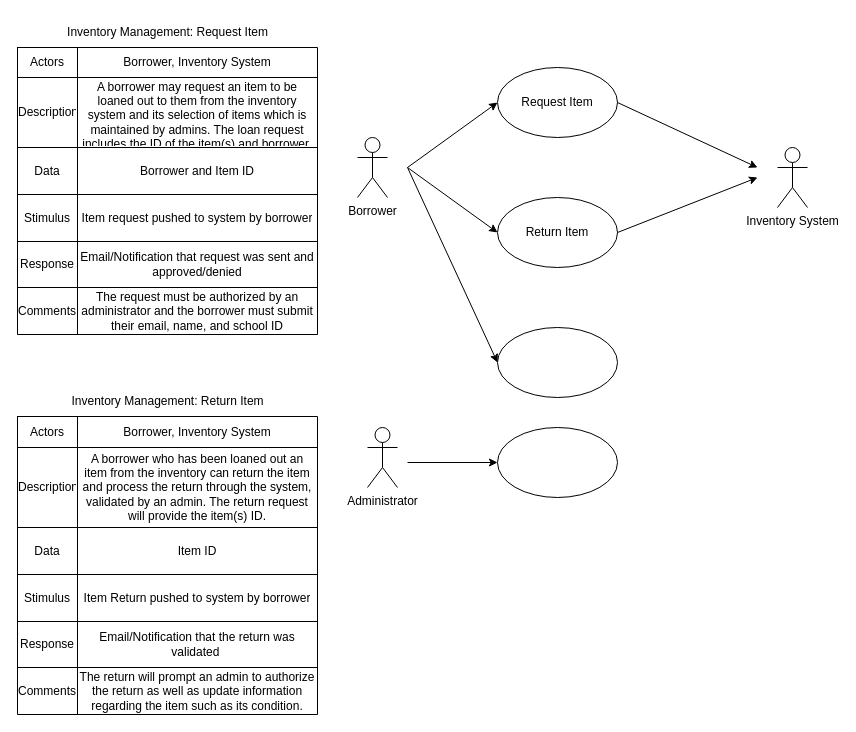
The diagram is 856 pixels wide and 732 high, and some of its shapes have lost their labels. The centre of each missing label's shape, as x and y in pixels:
Edit Inventory: (x=557, y=462)
View Current Items: (x=557, y=362)
